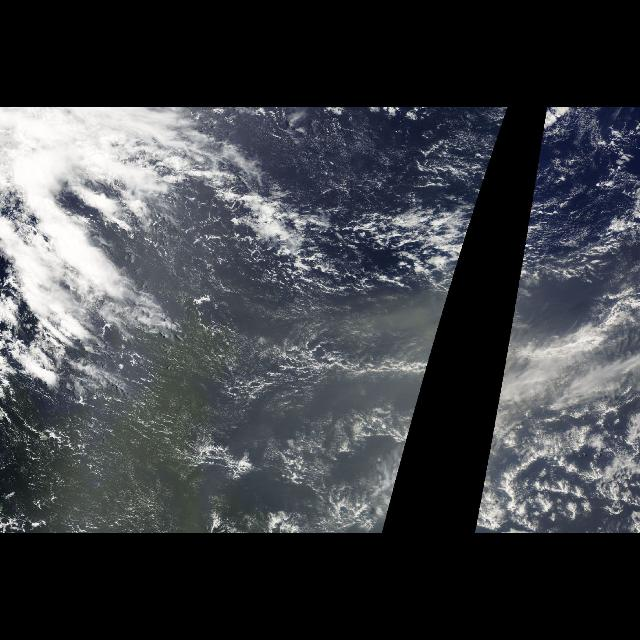Sugar: (85, 350, 203, 506), (268, 120, 474, 206)
